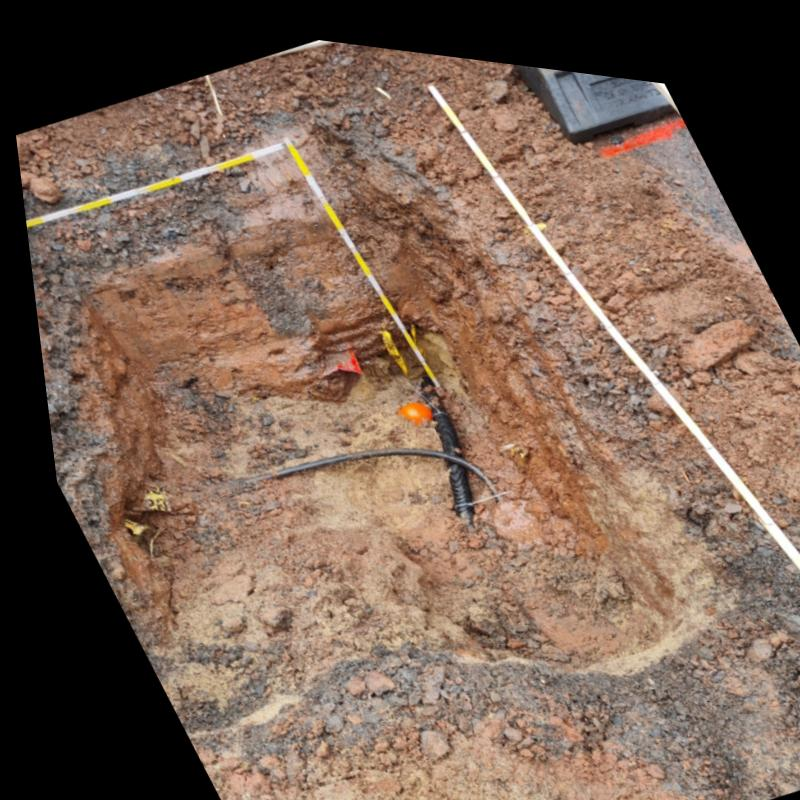Kugelmarker: (389, 392, 422, 413)
